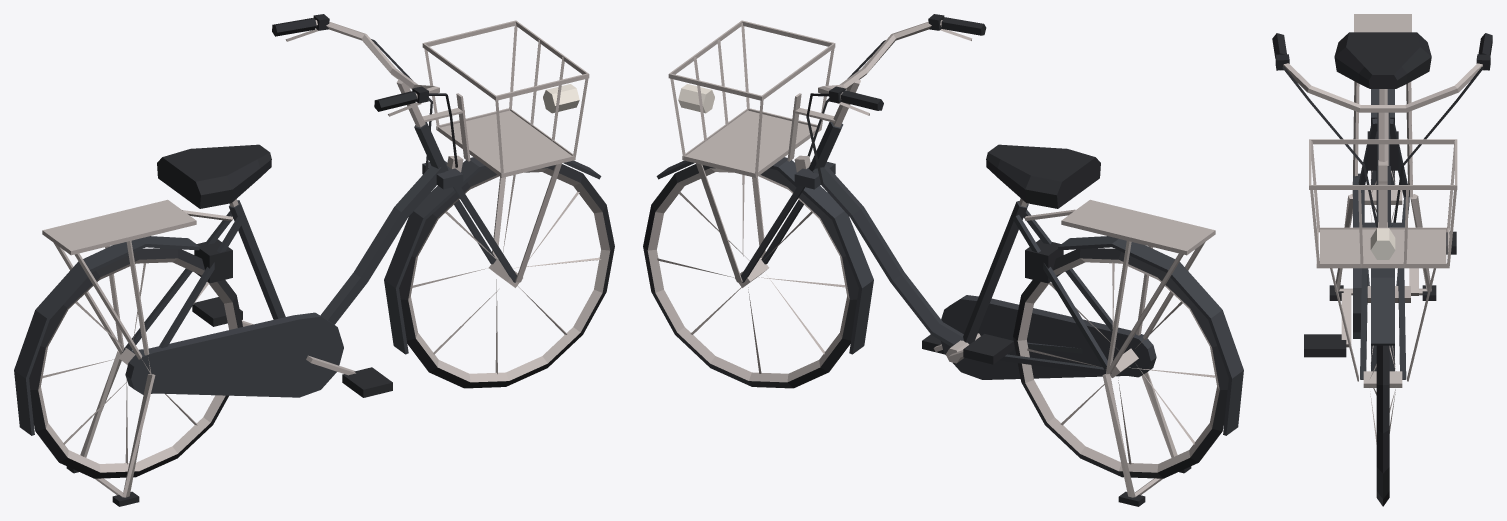
The model's file is SM_Street_Bicycle_Plain_Black_01.gltf.
3 renders of one model, left to right at view 1: azimuth 30°, elevation 25°; view 2: azimuth 150°, elevation 25°; view 3: azimuth 270°, elevation 25°, orthographic.
Visible parts, largest first — view 1: SM_Street_Bicycle_Plain_Black_01; view 2: SM_Street_Bicycle_Plain_Black_01; view 3: SM_Street_Bicycle_Plain_Black_01.
Part boxes in pixels (left/top/right/bottom): SM_Street_Bicycle_Plain_Black_01: left=14, top=14, right=614, bottom=506; SM_Street_Bicycle_Plain_Black_01: left=643, top=14, right=1243, bottom=506; SM_Street_Bicycle_Plain_Black_01: left=1272, top=14, right=1492, bottom=506.
Size of the model in its own units: 1.8 by 1.07 by 0.5707.
Materials: 1 (1 with a texture image).
